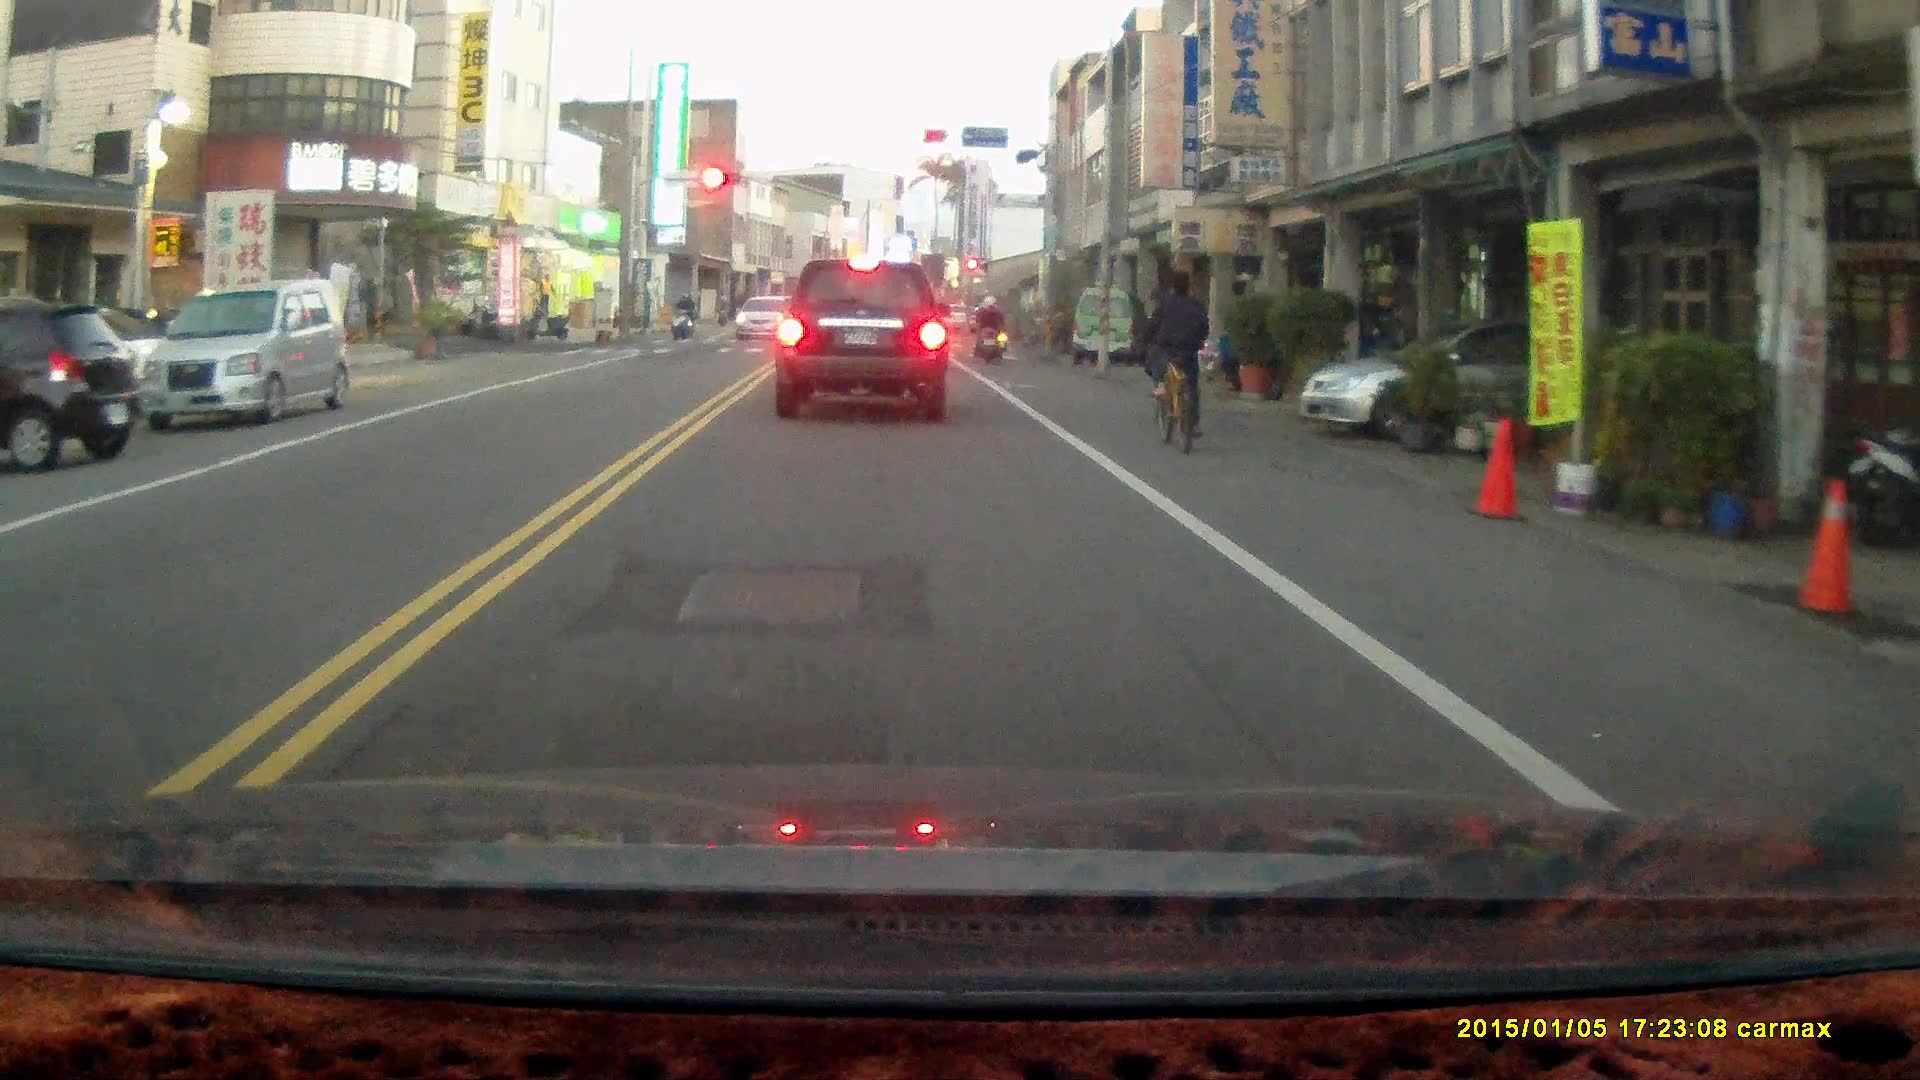pedestrian: (534, 270, 554, 317)
rider: (1142, 269, 1210, 453), (970, 291, 1007, 363), (669, 291, 695, 342)
vehicle: (1299, 316, 1662, 439), (138, 276, 351, 429), (770, 255, 952, 426), (1, 297, 141, 477), (1070, 289, 1146, 366)
